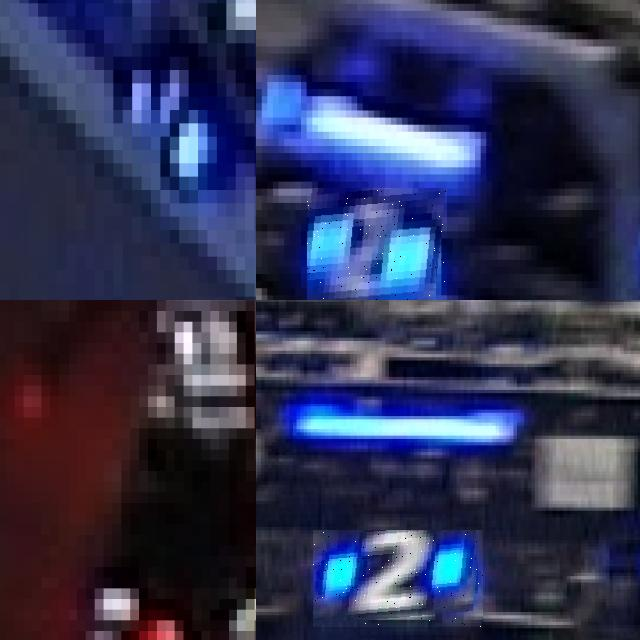B2: (313, 530, 483, 628), (306, 188, 447, 300)
